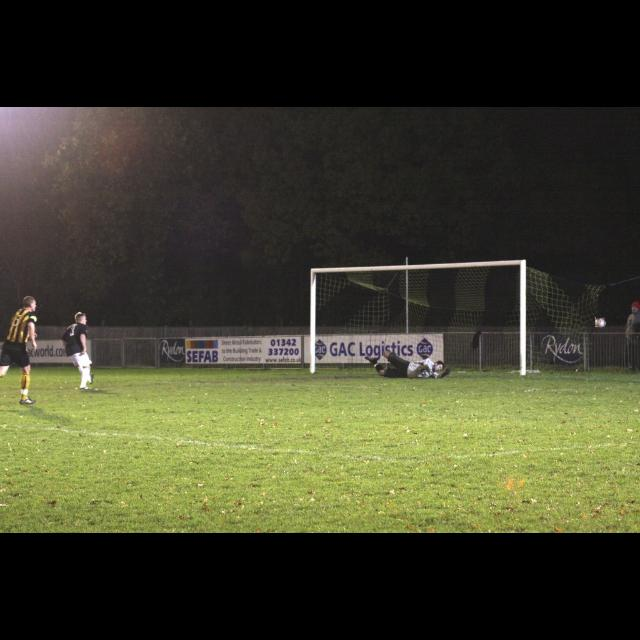Football: (595, 317, 605, 327)
